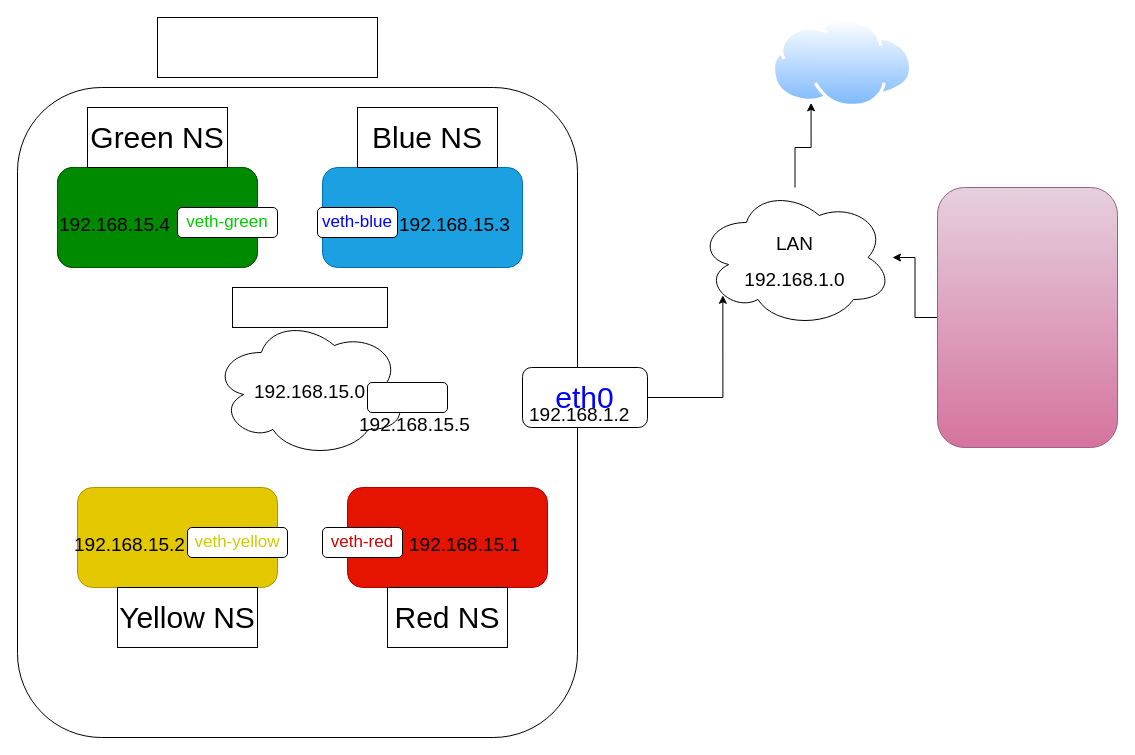
This 1135x755 diagram has some shape labels left out. Each missing label, with the centre of its shape:
"Another Host 192.168.1.3" belongs at point 1027,317.
"Internet" belongs at point 842,62.
"Linux server" belongs at point 267,47.
"V-net-0" belongs at point 407,397.
"Virtual network" belongs at point 310,307.
